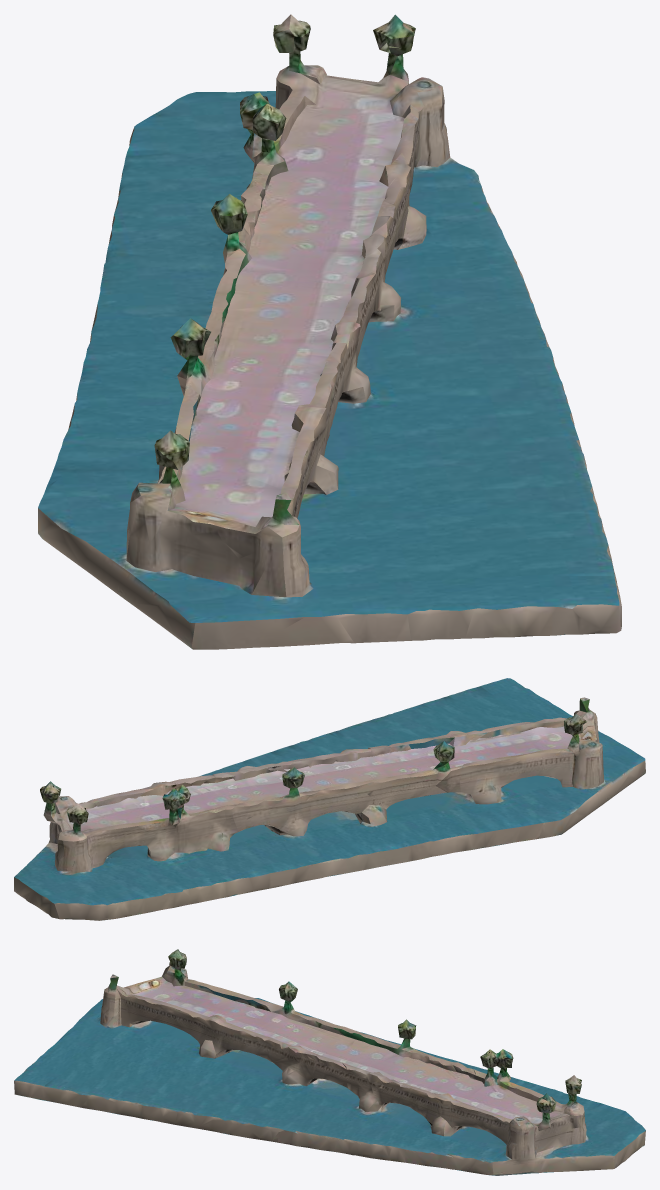
File: bandai-bridge.glb
3 views of the same model, one above another, from view 1: azimuth 30°, elevation 25°; view 2: azimuth 150°, elevation 25°; view 3: azimuth 270°, elevation 25° (orthographic). The views are drawn at different scales.
Parts seen in each view (by area): view 1: logan-textured.obj; view 2: logan-textured.obj; view 3: logan-textured.obj.
Boxes of the visible parts, box(x1,y1,x2,y2) form: logan-textured.obj: box(38, 14, 621, 649); logan-textured.obj: box(14, 678, 645, 920); logan-textured.obj: box(14, 949, 645, 1175).
Bounding box in the file's own units: 0.6175 × 0.1344 × 1.
Materials: 1 (1 with a texture image).
